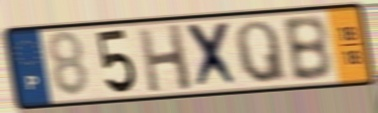5: (94, 27, 137, 95)
8: (45, 29, 95, 102)
B: (279, 13, 334, 84)
H: (136, 21, 196, 95)
Q: (233, 18, 290, 86)
X: (184, 19, 243, 92)
